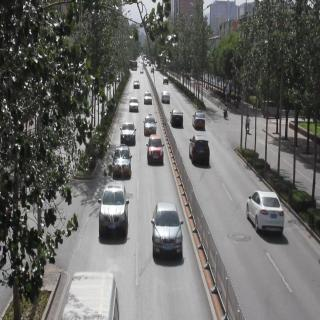Car: (241, 190, 292, 241), (147, 205, 189, 257), (94, 186, 134, 236), (182, 135, 218, 167), (108, 143, 134, 177), (144, 135, 170, 165), (119, 117, 140, 147), (144, 112, 164, 130), (191, 111, 212, 127), (158, 88, 179, 103), (130, 96, 142, 116), (173, 108, 186, 124), (144, 91, 153, 104), (162, 74, 176, 81)
